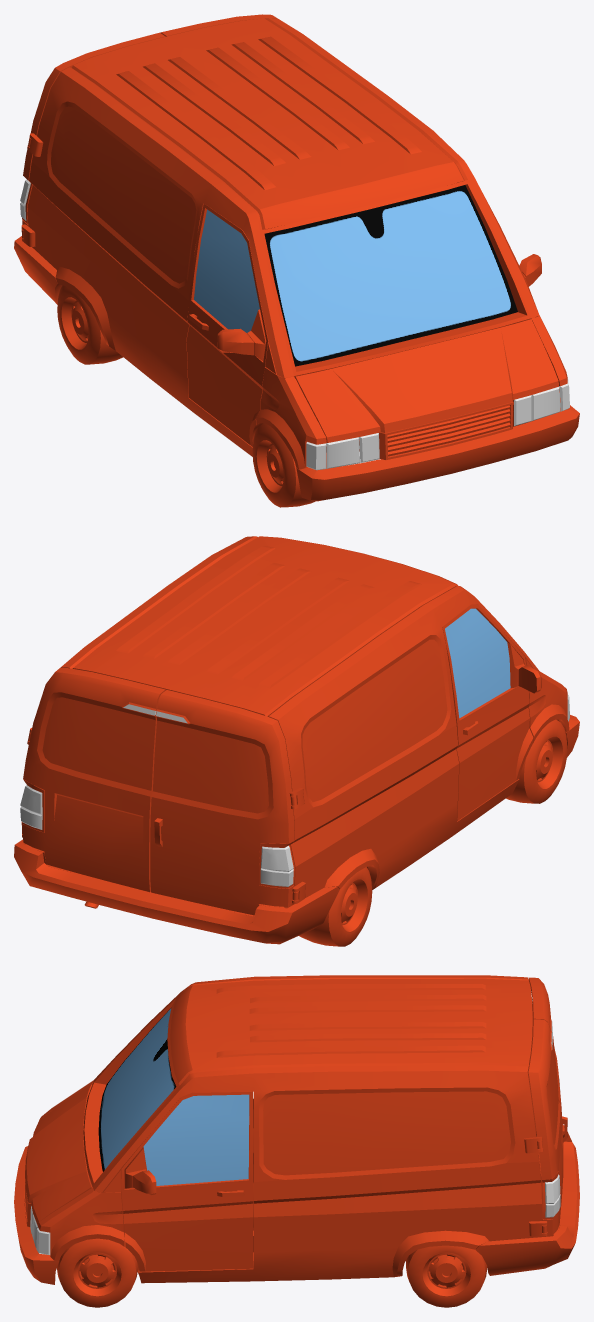
Rendered from vehicle_04.fbx.
The picture shows the model from 3 angles, top to bottom: view 1: azimuth 30°, elevation 25°; view 2: azimuth 150°, elevation 25°; view 3: azimuth 270°, elevation 25°; orthographic projection. The views are drawn at different scales.
Parts seen in each view (by area): view 1: Stage_205, Stage_101, Stage_208, Stage_201, Stage_204, Stage_302, Stage_304, Stage_206, Stage_202, Stage_207; view 2: Stage_205, Stage_206, Stage_207, Stage_101, Stage_204, Stage_202, Stage_302, Stage_304; view 3: Stage_205, Stage_101, Stage_203, Stage_208, Stage_202, Stage_301, Stage_207, Stage_303, Stage_201, Stage_206.
Part boxes in pixels (x1,y1,x2,y2): Stage_205: [27, 18, 539, 377]; Stage_101: [20, 162, 567, 469]; Stage_208: [295, 319, 558, 442]; Stage_201: [296, 379, 579, 501]; Stage_204: [186, 204, 268, 446]; Stage_302: [252, 422, 326, 507]; Stage_304: [57, 285, 122, 364]; Stage_206: [21, 32, 165, 238]; Stage_202: [14, 236, 62, 304]; Stage_207: [160, 14, 277, 36]; Stage_205: [27, 536, 539, 819]; Stage_206: [150, 690, 298, 915]; Stage_207: [22, 667, 165, 892]; Stage_101: [20, 671, 569, 916]; Stage_204: [442, 604, 541, 821]; Stage_202: [14, 839, 339, 944]; Stage_302: [506, 719, 567, 803]; Stage_304: [299, 867, 372, 946]; Stage_205: [83, 975, 543, 1192]; Stage_101: [38, 1050, 561, 1283]; Stage_203: [121, 1091, 252, 1271]; Stage_208: [25, 1084, 92, 1225]; Stage_202: [476, 1124, 579, 1275]; Stage_301: [57, 1235, 137, 1307]; Stage_207: [528, 1019, 563, 1235]; Stage_303: [406, 1245, 487, 1307]; Stage_201: [14, 1146, 59, 1284]; Stage_206: [528, 977, 567, 1144].
Bounding box in the file's own units: 138 × 107 × 234.
